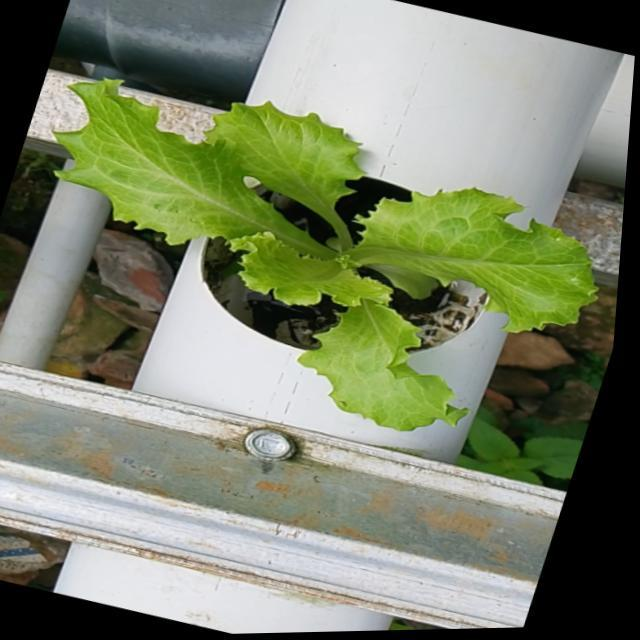Baby: (54, 78, 596, 431)
